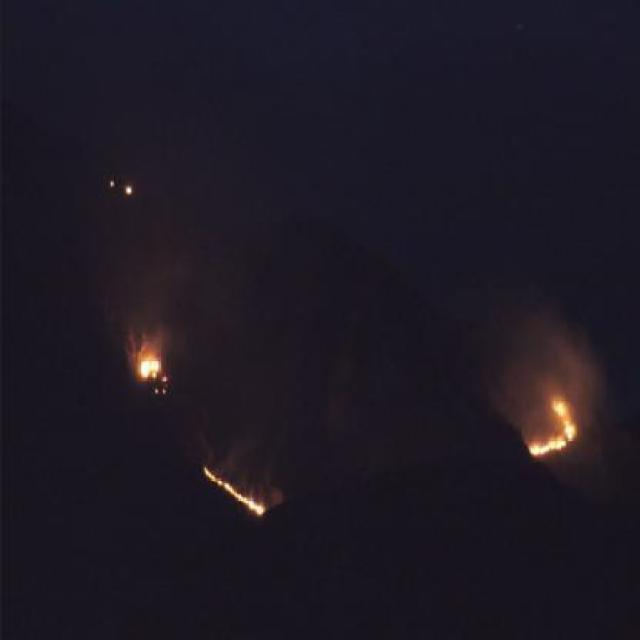Fire: (200, 456, 272, 519), (526, 384, 580, 460), (137, 356, 163, 378)
